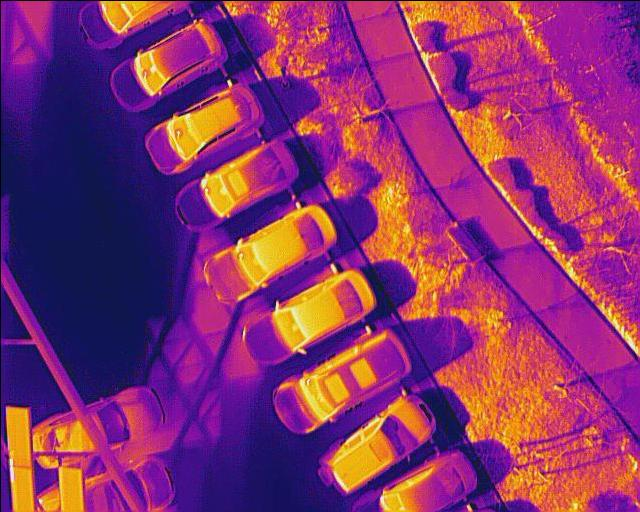Cell: (6, 407, 31, 468)
